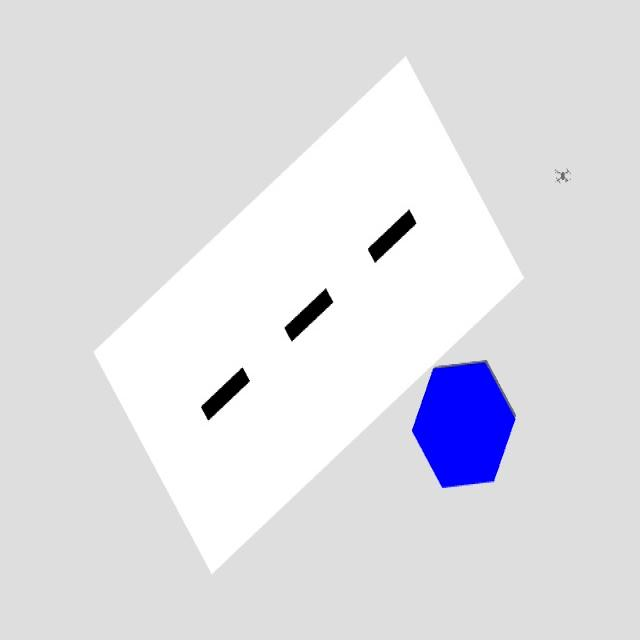blue_hexagon: (411, 359, 516, 489)
